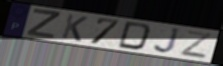7: (90, 17, 121, 45)
D: (116, 20, 153, 51)
J: (153, 27, 182, 55)
K: (60, 13, 90, 43)
Z: (24, 8, 61, 40), (179, 30, 213, 60)
